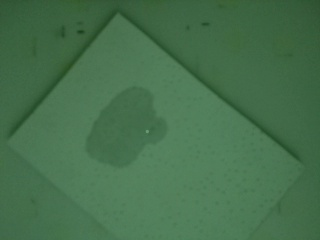Water_detected: (102, 102, 163, 164)
